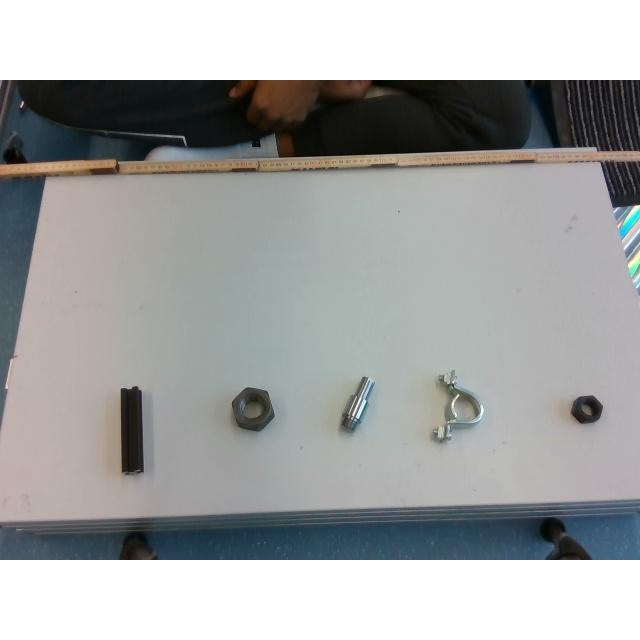Axis2: (341, 376, 375, 430)
F20_20_B: (121, 386, 143, 474)
Housing: (432, 369, 486, 441)
M20: (570, 395, 602, 423)
M30: (232, 386, 274, 429)
